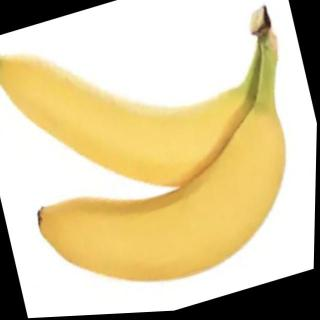banana: (0, 0, 276, 243), (24, 102, 313, 318)
